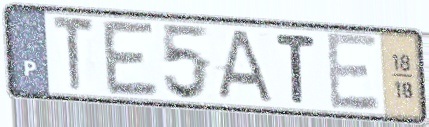5: (158, 20, 212, 102)
A: (211, 28, 277, 106)
E: (99, 18, 162, 100), (323, 29, 383, 113)
T: (51, 13, 97, 95), (272, 30, 318, 107)
